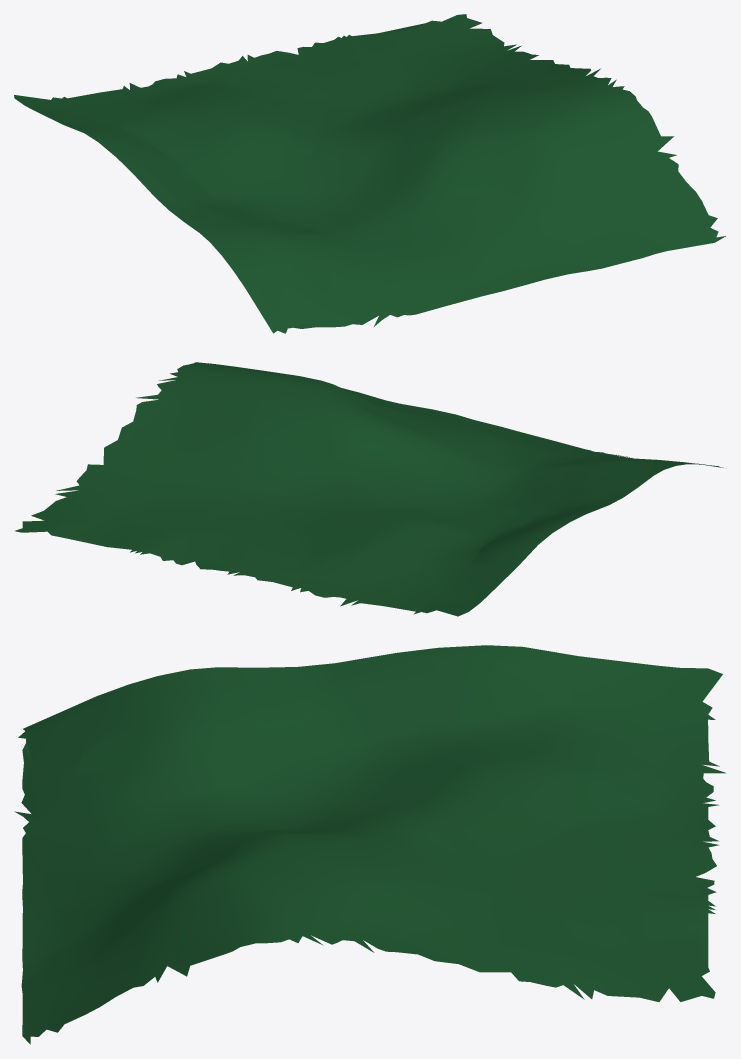
The model's file is payo_land_xm4_ym1_lod2.glb.
3 renders of one model, top to bottom at view 1: azimuth 30°, elevation 25°; view 2: azimuth 150°, elevation 25°; view 3: azimuth 270°, elevation 25°, orthographic. The views are drawn at different scales.
Visible parts, largest first — view 1: payo_land_xm4_ym1; view 2: payo_land_xm4_ym1; view 3: payo_land_xm4_ym1.
Boxes of the visible parts, <box> form: payo_land_xm4_ym1: <box>14,14,725,333</box>; payo_land_xm4_ym1: <box>15,362,723,616</box>; payo_land_xm4_ym1: <box>14,645,725,1044</box>.
Size of the model in its own units: 263 by 43.48 by 265.
